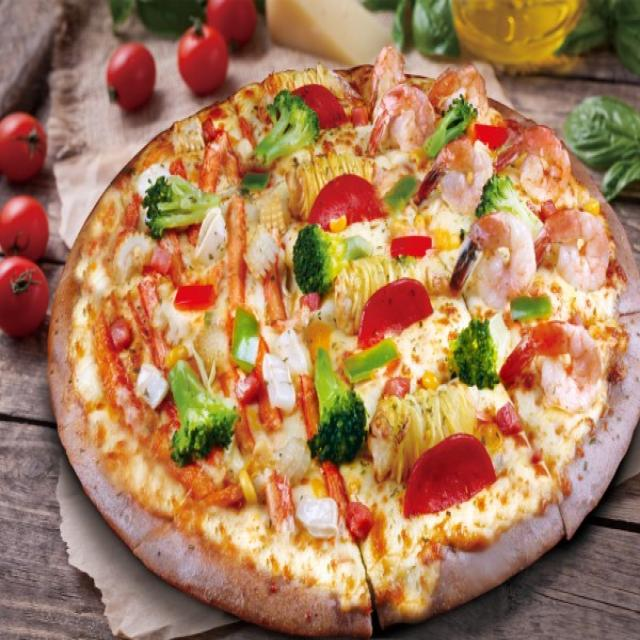Wet Waste: (45, 35, 639, 640)
